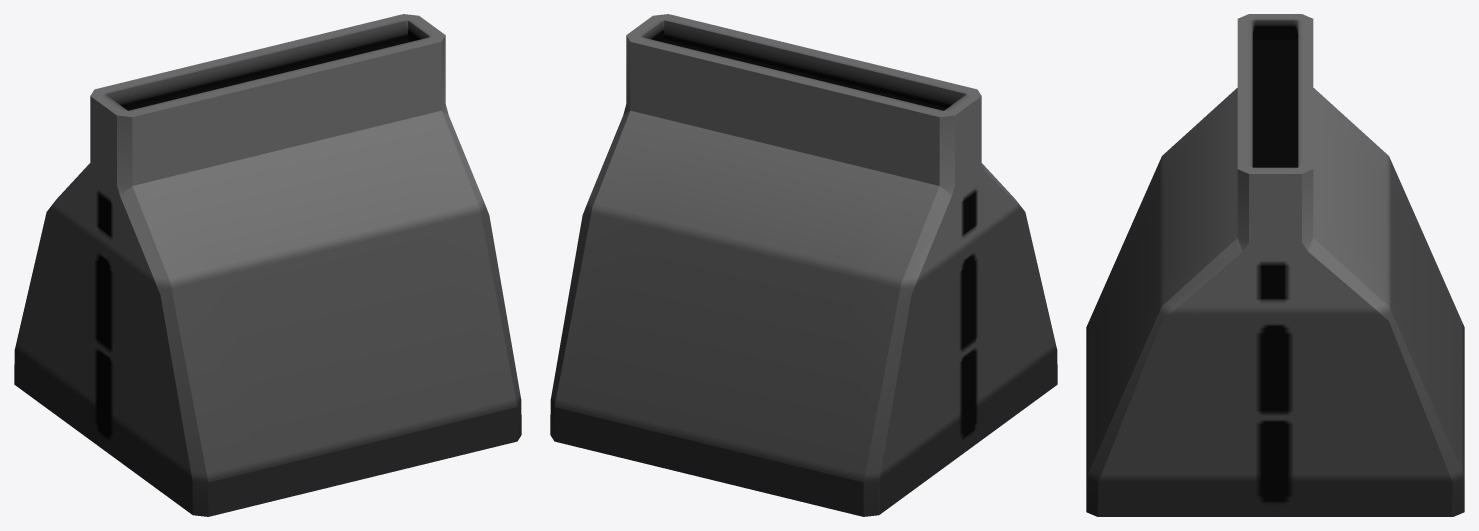
File: wall_double_one_straight1.fbx
3 views of the same model, side by side, from view 1: azimuth 30°, elevation 25°; view 2: azimuth 150°, elevation 25°; view 3: azimuth 270°, elevation 25° (orthographic).
Visible parts, largest first — view 1: wall_double_one_straight2; view 2: wall_double_one_straight2; view 3: wall_double_one_straight2.
Part boxes in pixels (x1,y1,x2,y2): wall_double_one_straight2: [14, 14, 521, 516]; wall_double_one_straight2: [550, 14, 1057, 516]; wall_double_one_straight2: [1086, 14, 1464, 516].
Size of the model in its own units: 1 by 1 by 1.
Materials: 1 (1 with a texture image).
